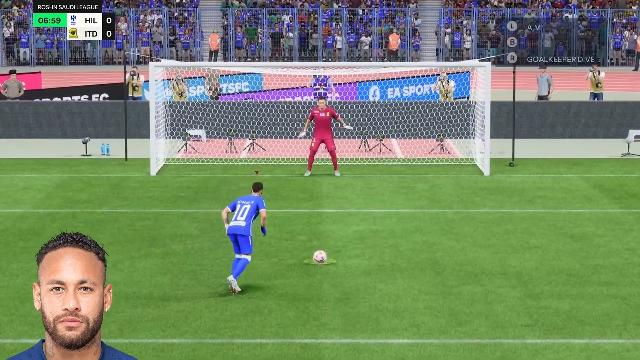circle: (305, 258, 335, 262)
football: (314, 252, 326, 260)
goal-bottom-left: (157, 132, 263, 180)
goal-bottom-right: (376, 130, 482, 178)
goal-middle-down: (266, 132, 374, 180)
goal-middle-up: (265, 71, 373, 130)
goal-top-left: (158, 70, 264, 130)
goal-top-right: (374, 72, 482, 128)
goalkeeper: (302, 107, 342, 181)
player: (206, 182, 264, 296)
